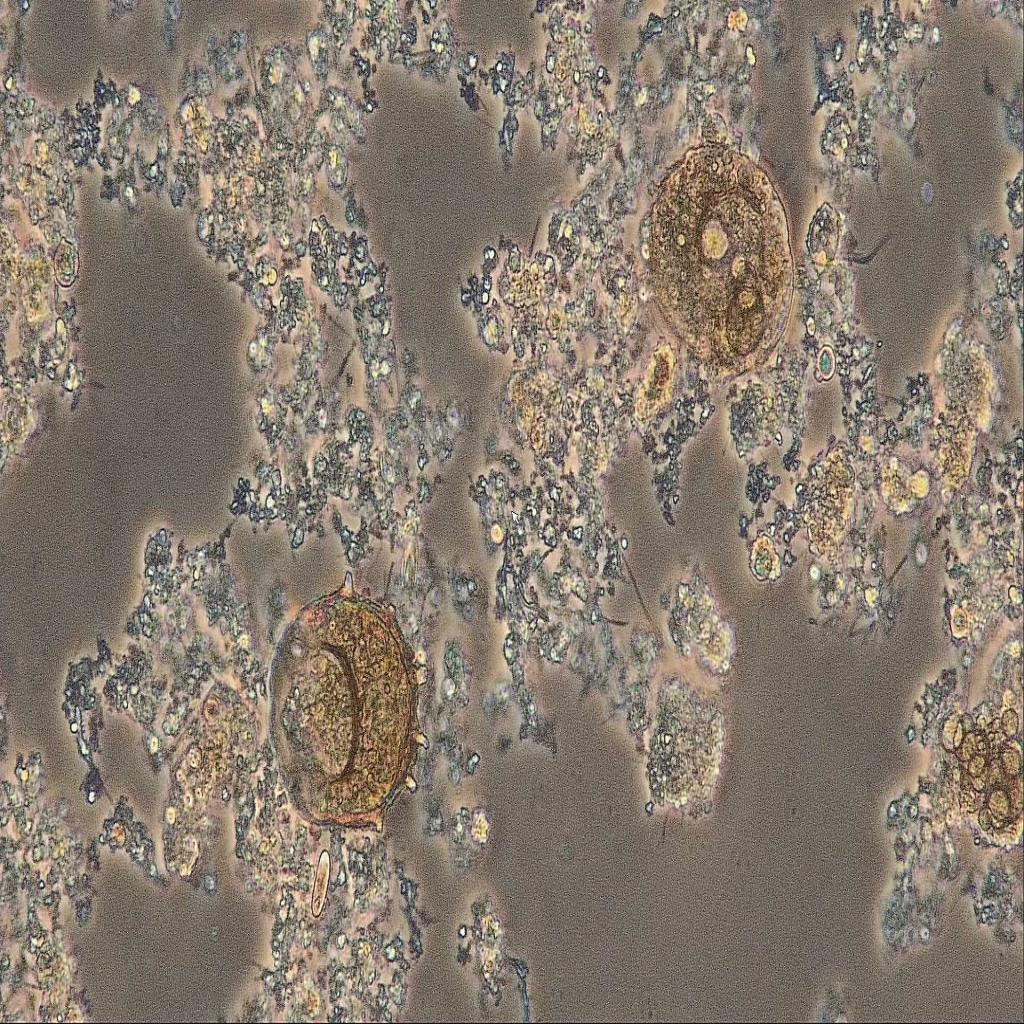Arcella: (260, 560, 435, 852), (629, 116, 789, 393)
